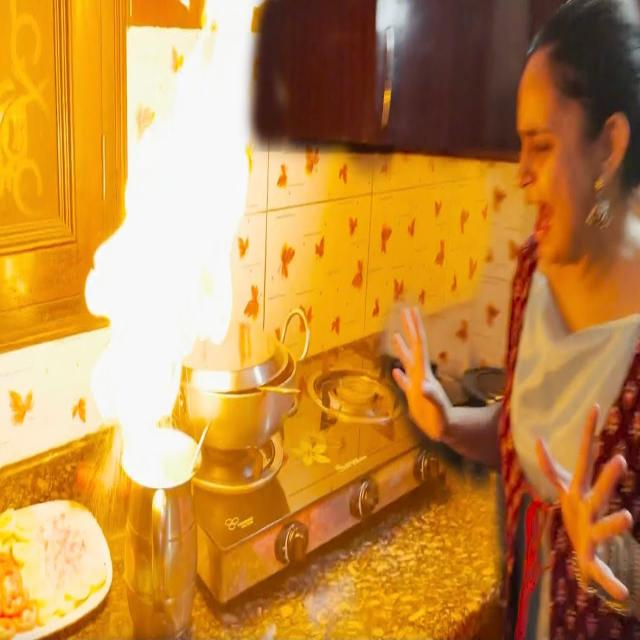fire: (84, 0, 264, 488)
